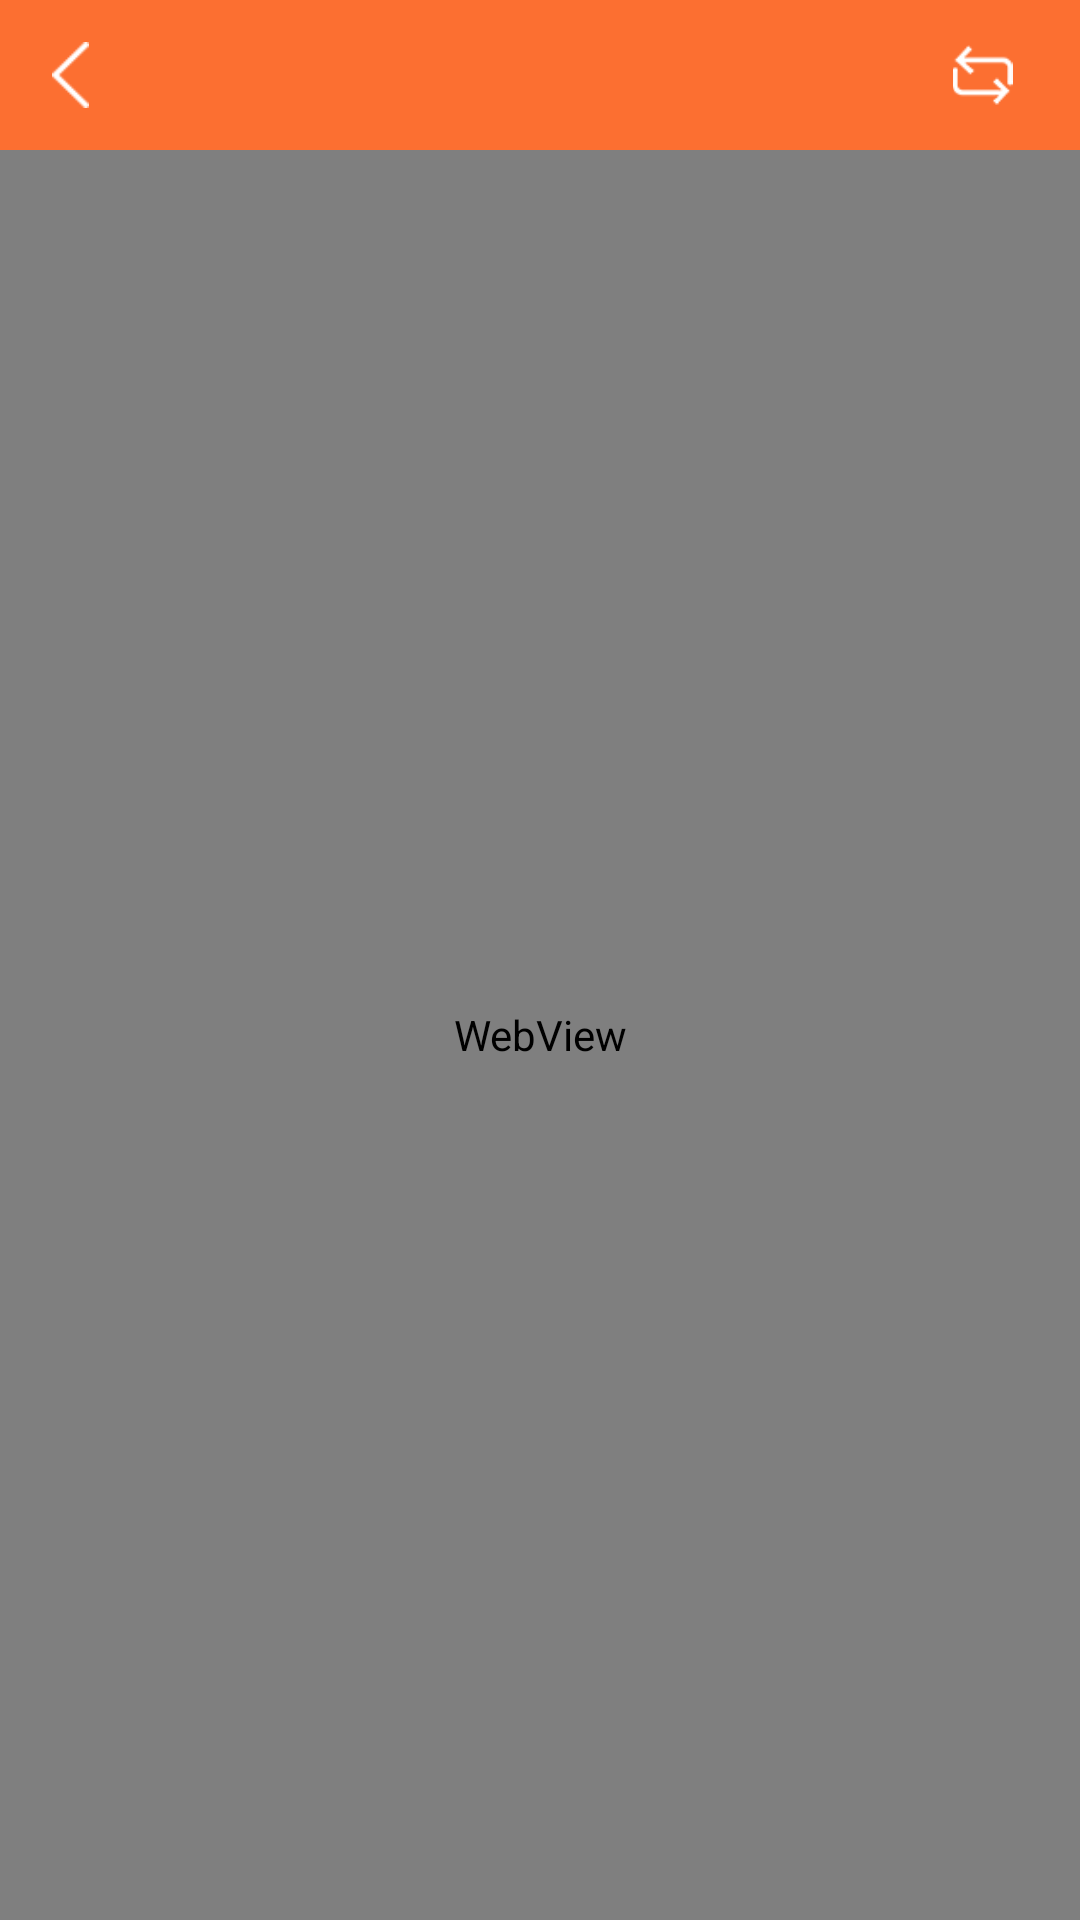

Named icons in this screenshot (1080w x 1920h) and their centers, [x,y]:
back: [70,75]
swich: [983,75]
